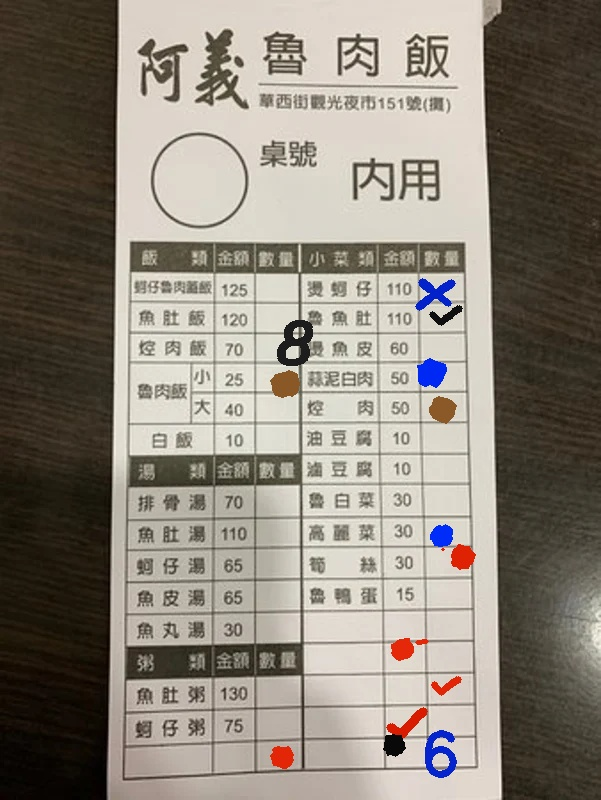marked_circle: (382, 642, 425, 670), (259, 741, 302, 769), (427, 549, 470, 577), (384, 735, 427, 763), (426, 517, 469, 545), (257, 363, 300, 391), (421, 391, 464, 419), (421, 361, 464, 389)
marked_number_6: (431, 734, 474, 762)
marked_number_8: (256, 332, 299, 360)
marked_tick: (429, 673, 472, 701), (384, 705, 427, 733), (421, 301, 464, 329)
marked_x: (419, 274, 462, 302)
